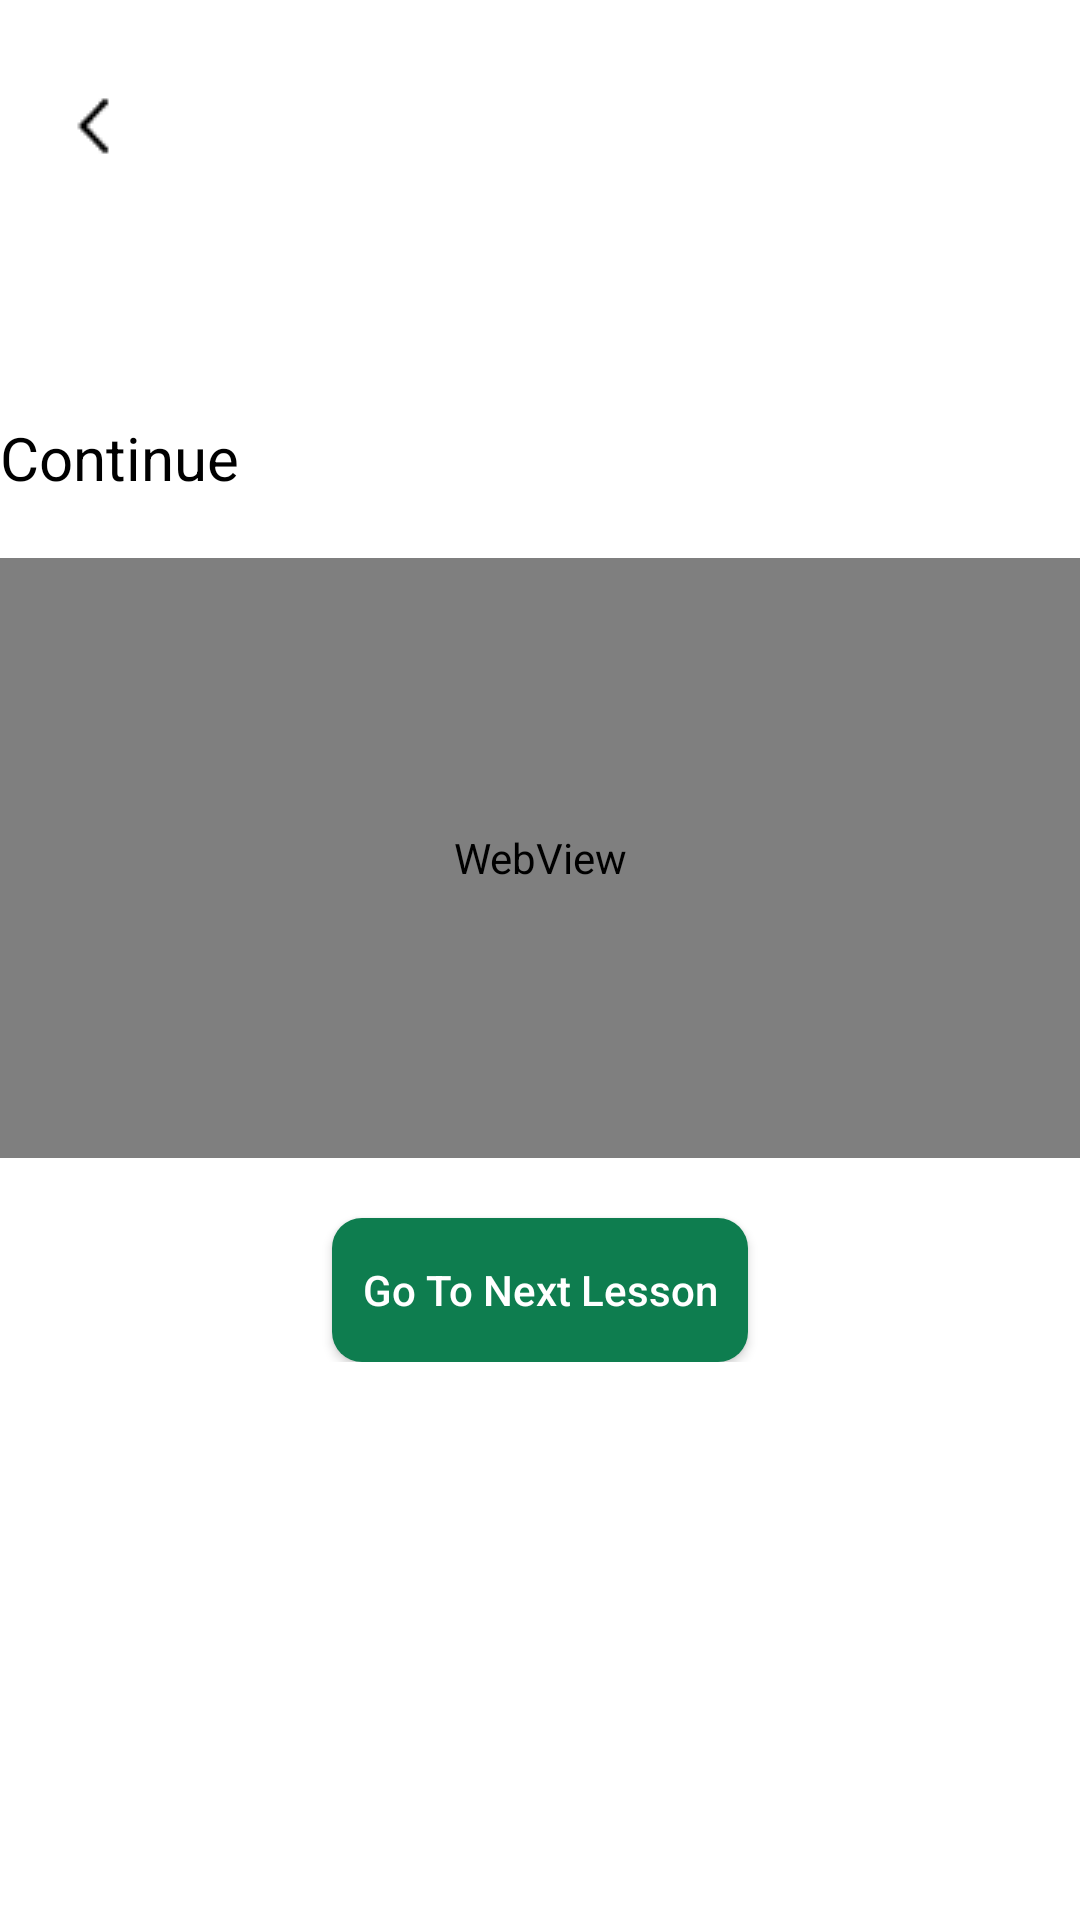

Icon bounding boxes for this 1080*1920 phone screenshot, format {"left": x1, "top": y1, "right": x2, "bottom": y2}:
arrow_left icon: {"left": 77, "top": 98, "right": 109, "bottom": 154}
